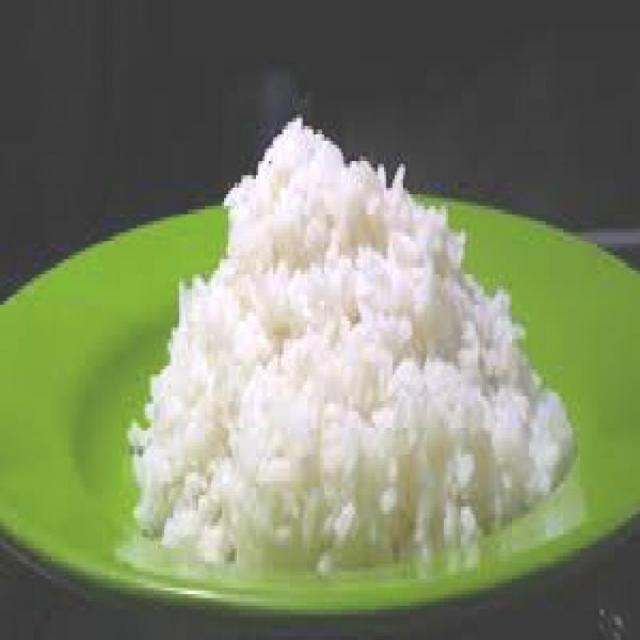Rice: (128, 116, 575, 569)
